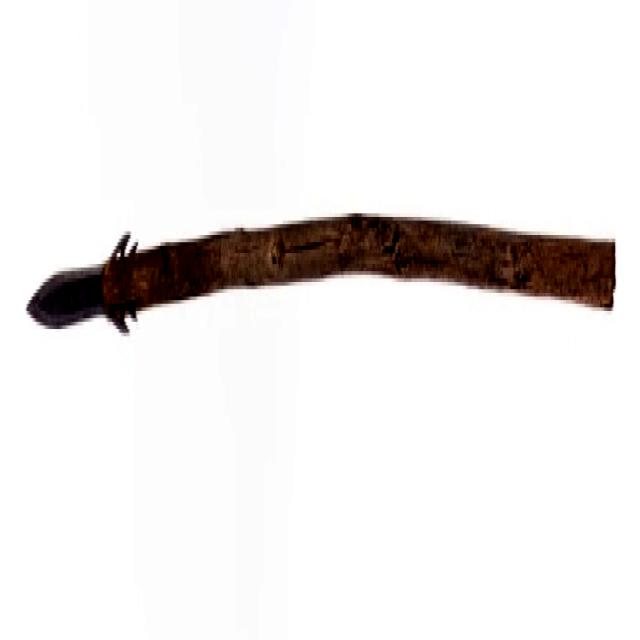spear: (20, 172, 624, 388)
